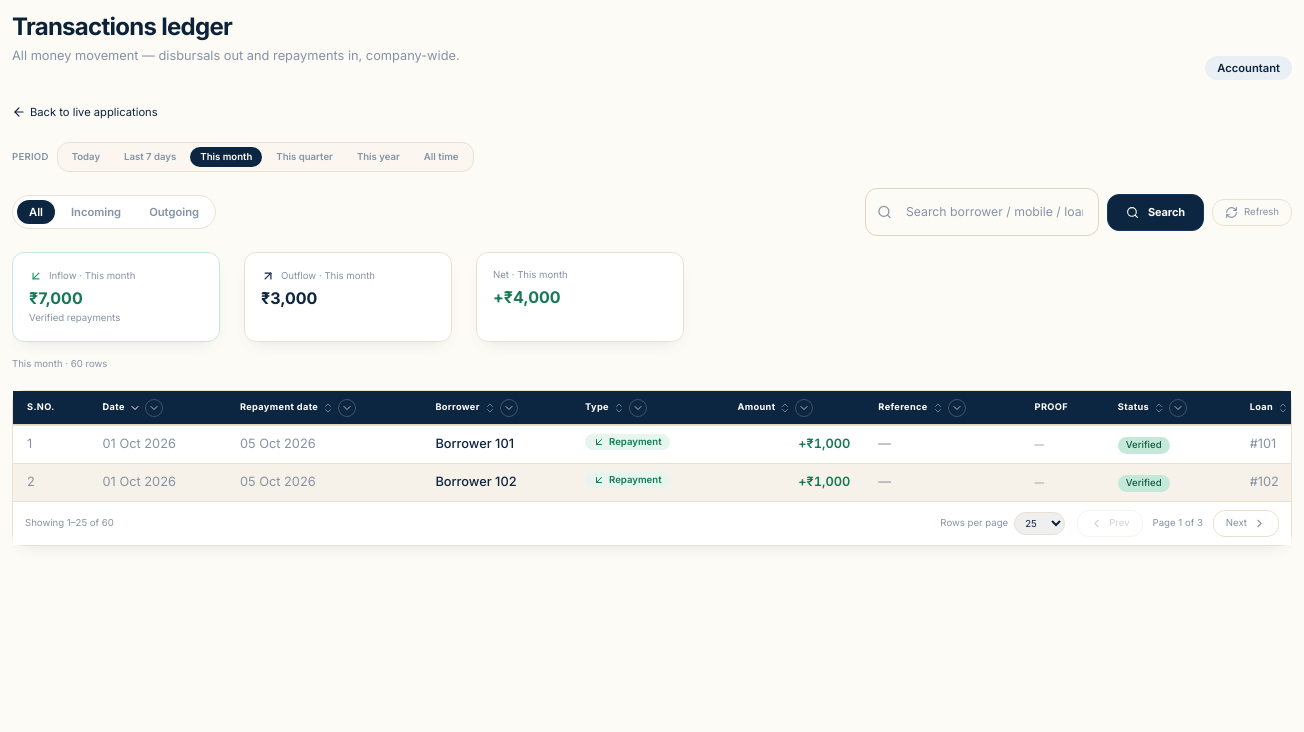
Test: TransactionsPage › shows the server's totals for the whole filter, and they do not move when the page does
Expected: the text "₹7,000" is shown, [29,288,83,308]
Expected: the text "₹3,000" is shown, [261,288,317,308]
Click the button "Next". click: (1246, 523)
box: [1213,510,1279,537]
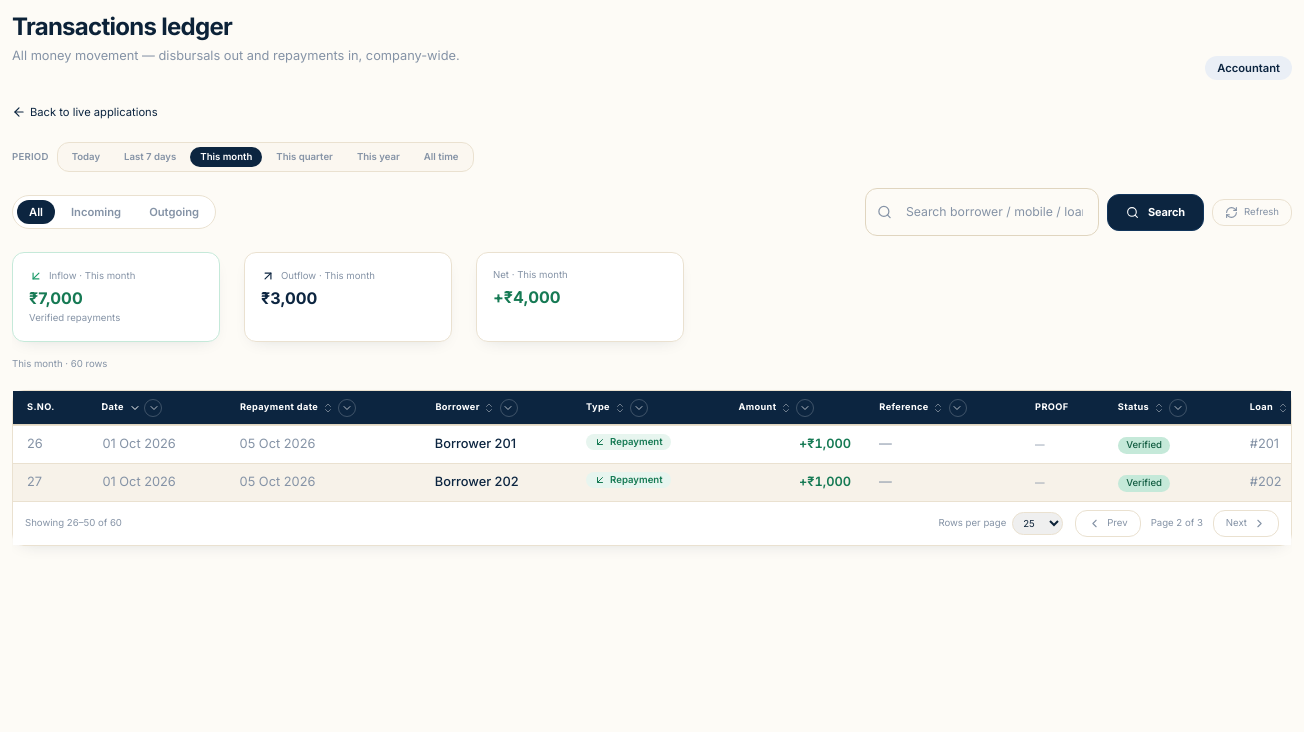
Expected: the text "₹7,000" is shown, [29,288,83,308]
Result: the button "Borrower 201" is shown at [435,434,516,454]
